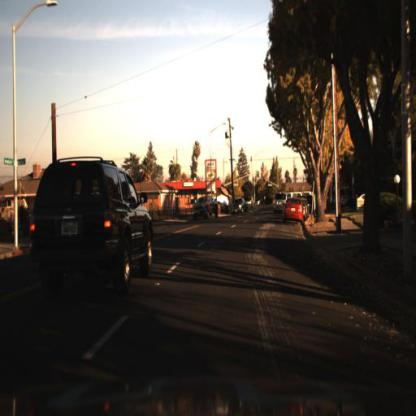car: (25, 155, 153, 303), (193, 190, 221, 221), (281, 199, 308, 226), (268, 188, 290, 219), (230, 195, 250, 219)
